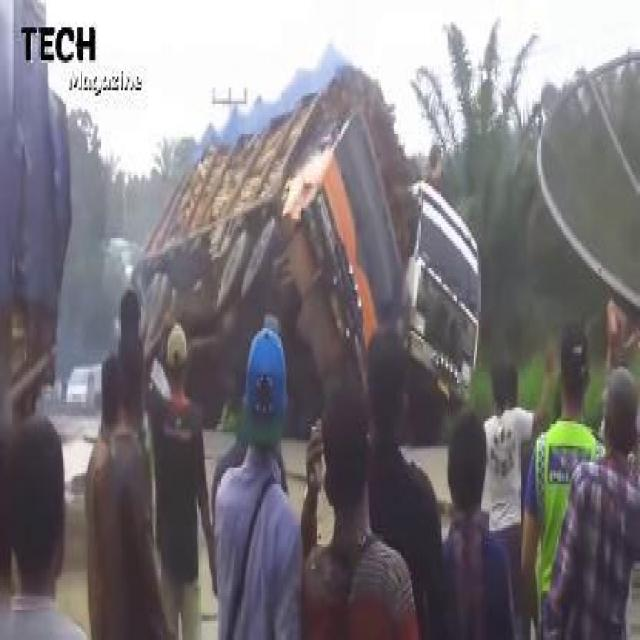accident: (132, 63, 485, 438)
